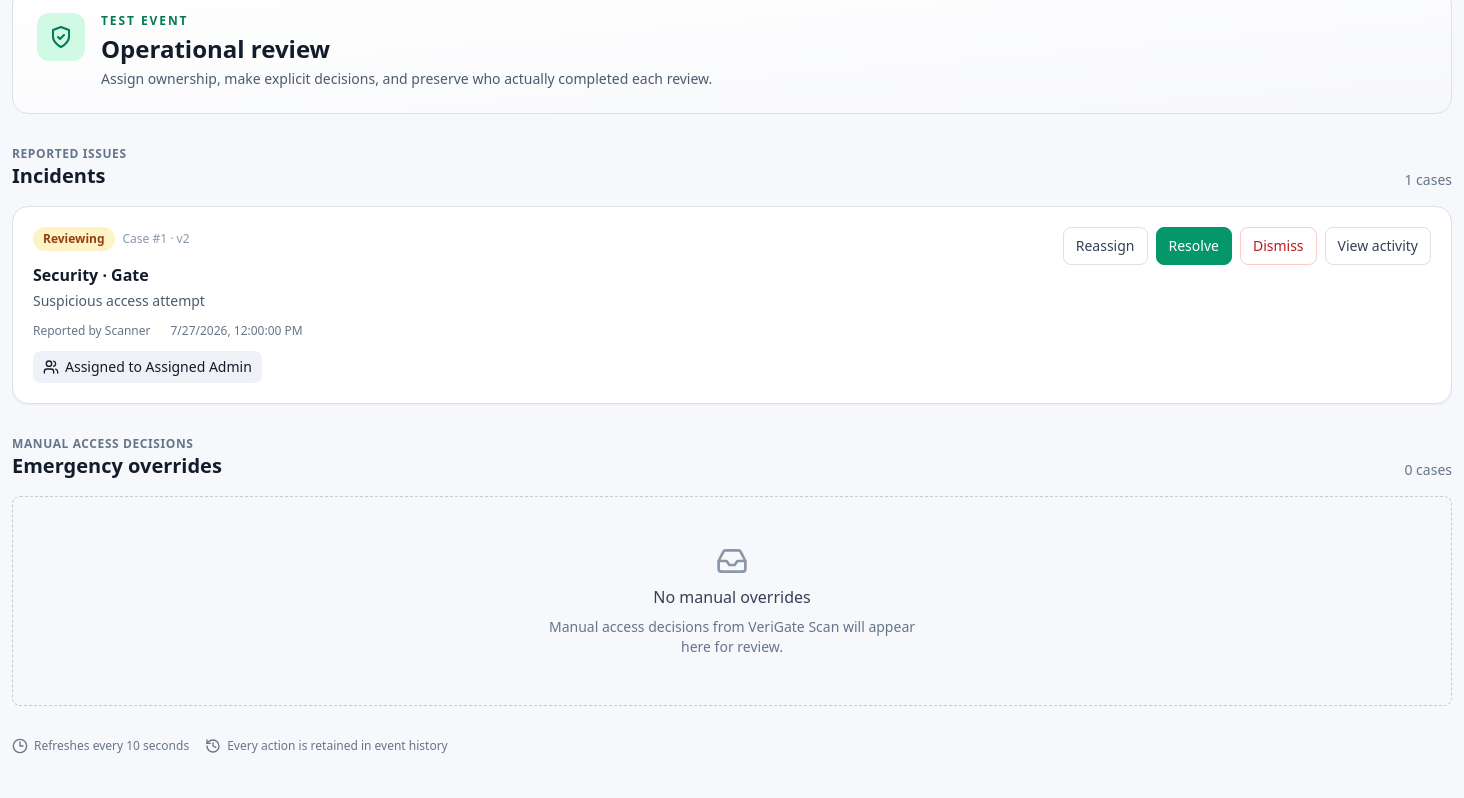
Test: IncidentsPage reviewed operational interactions › validates mandatory decision notes before submitting a terminal action
Click the button "Resolve" at coordinates (1194, 246), box [1156,227,1232,265]
(page scrolled)
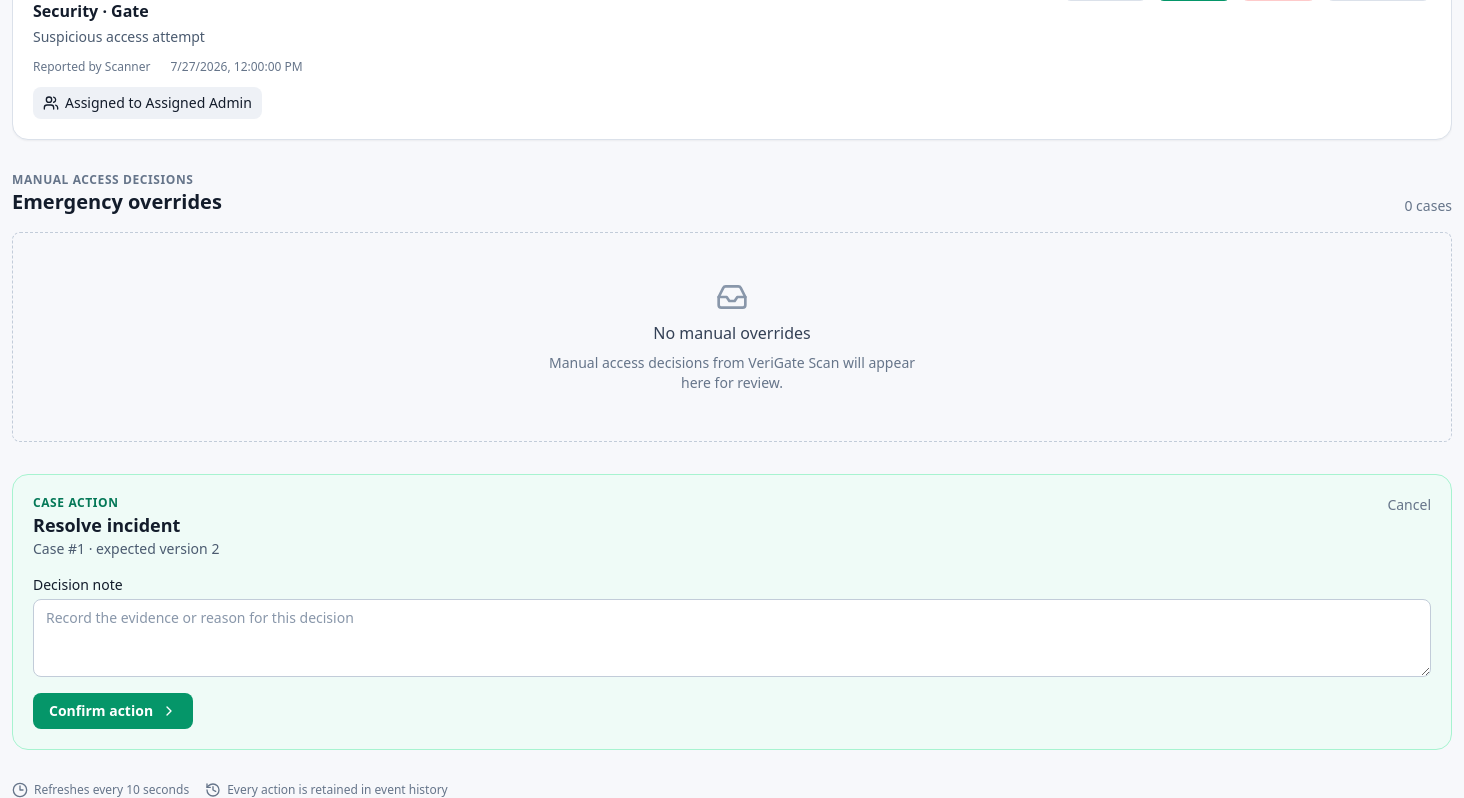
Click the button "Confirm action" at coordinates (113, 711), box [33,693,193,729]
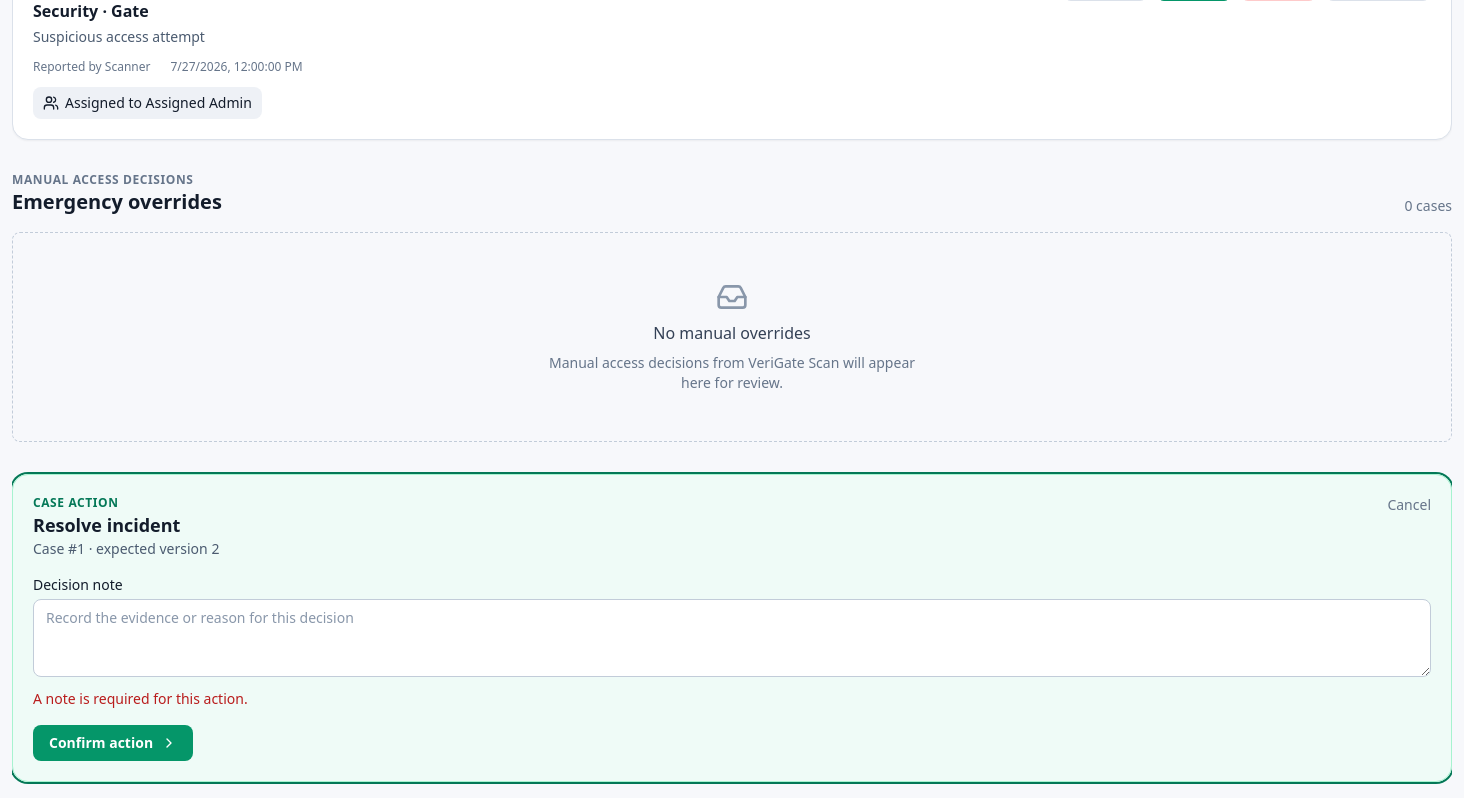
Now the text "A note is required for this action." is shown, box [33,689,248,708]
